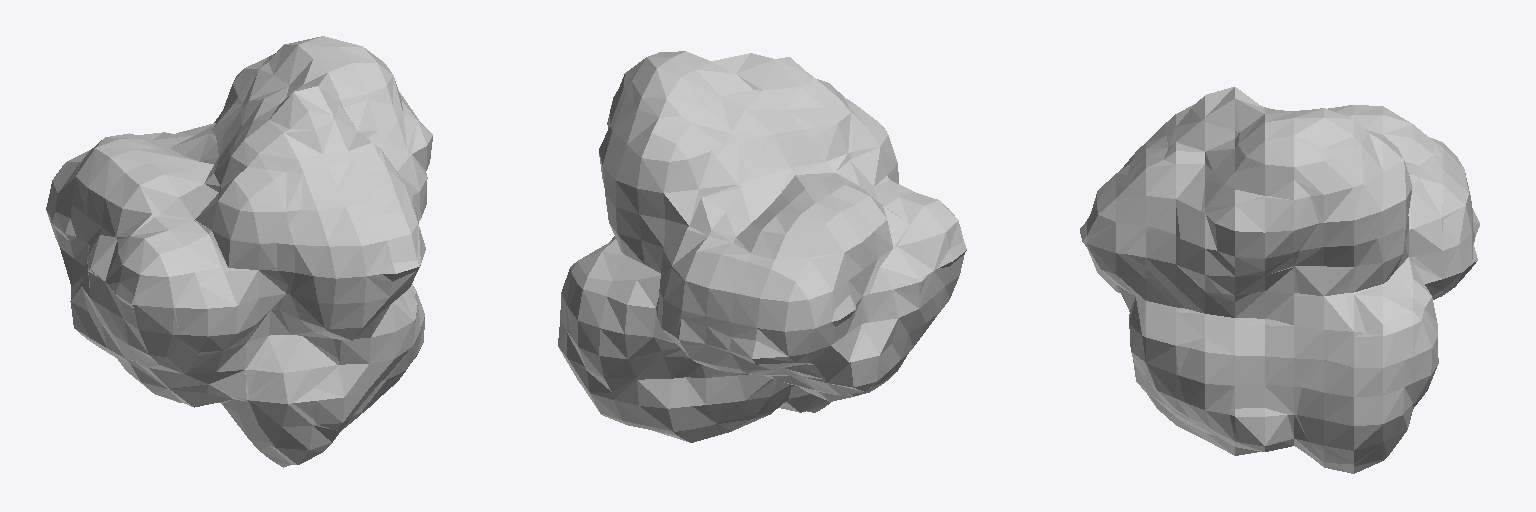
File: 4x9m_trimer_cms.obj
The picture shows the model from 3 angles: view 1: azimuth 30°, elevation 25°; view 2: azimuth 150°, elevation 25°; view 3: azimuth 270°, elevation 25°; orthographic projection.
Size of the model in its own units: 90.03 by 96.03 by 95.92.